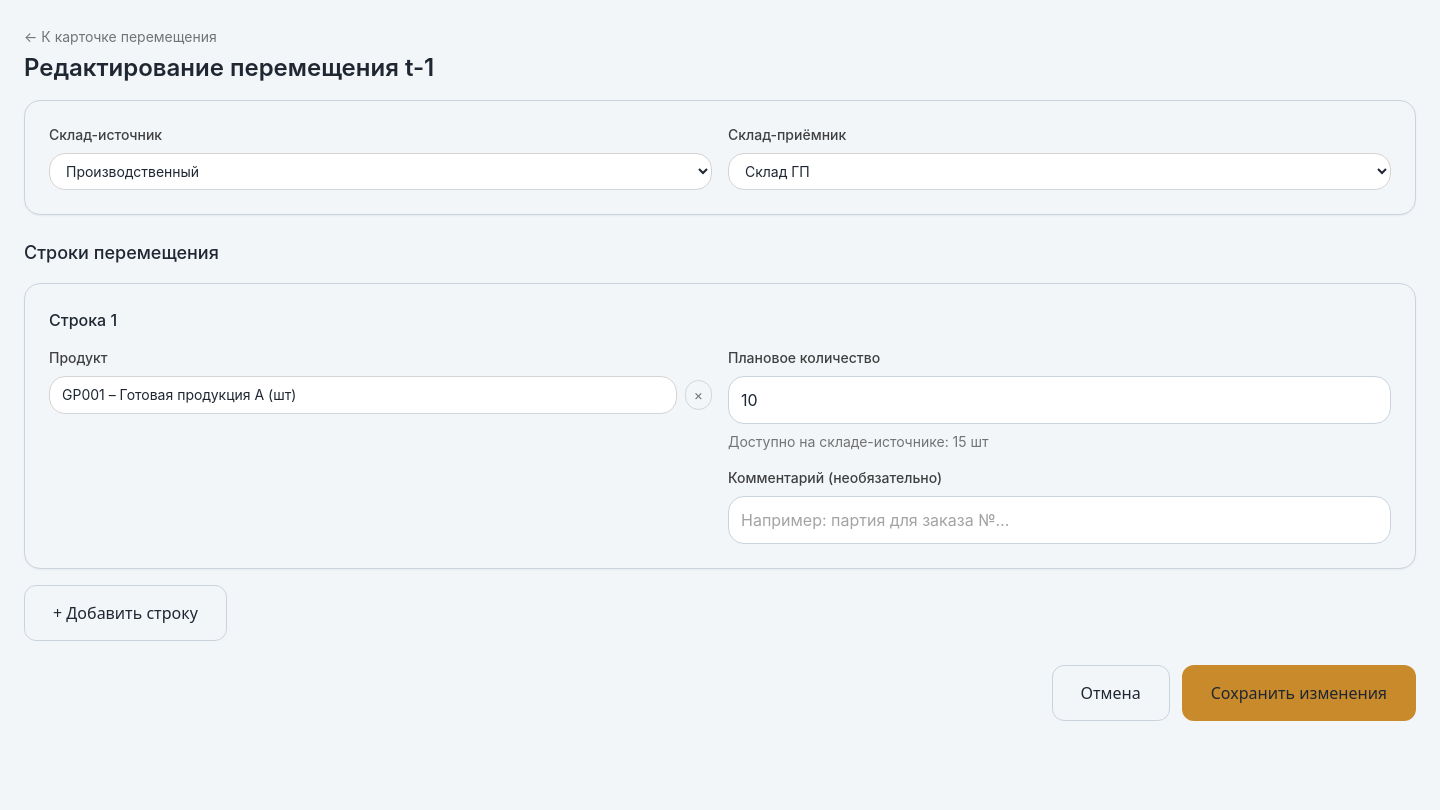
Test: Правка отправленного Перемещения: доступный остаток (T-066) › не прибавляет чужой резерв при смене склада-источника
Select "Склад ГП" in the dropdown labelled "Склад-источник" at point(380, 172), box [49,153,712,190]
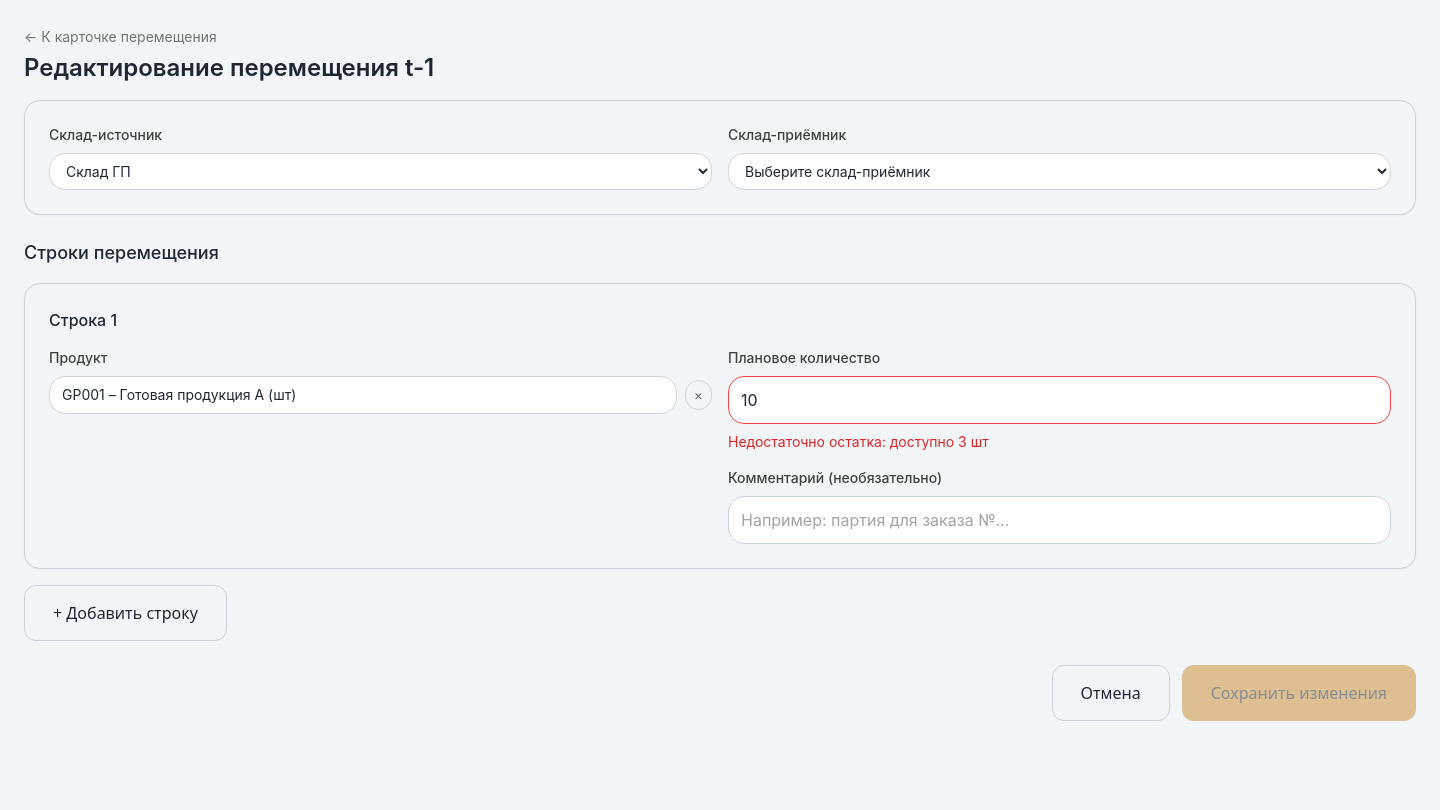
Now the text "Недостаточно остатка: доступно 3 шт" is shown, box [728,433,989,450]
